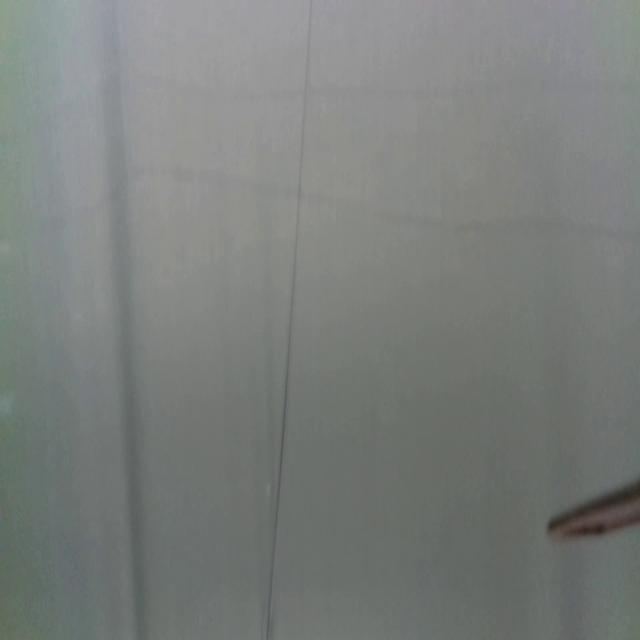color bleeding: (0, 61, 640, 154), (33, 159, 640, 252)
crease: (267, 0, 313, 640)
